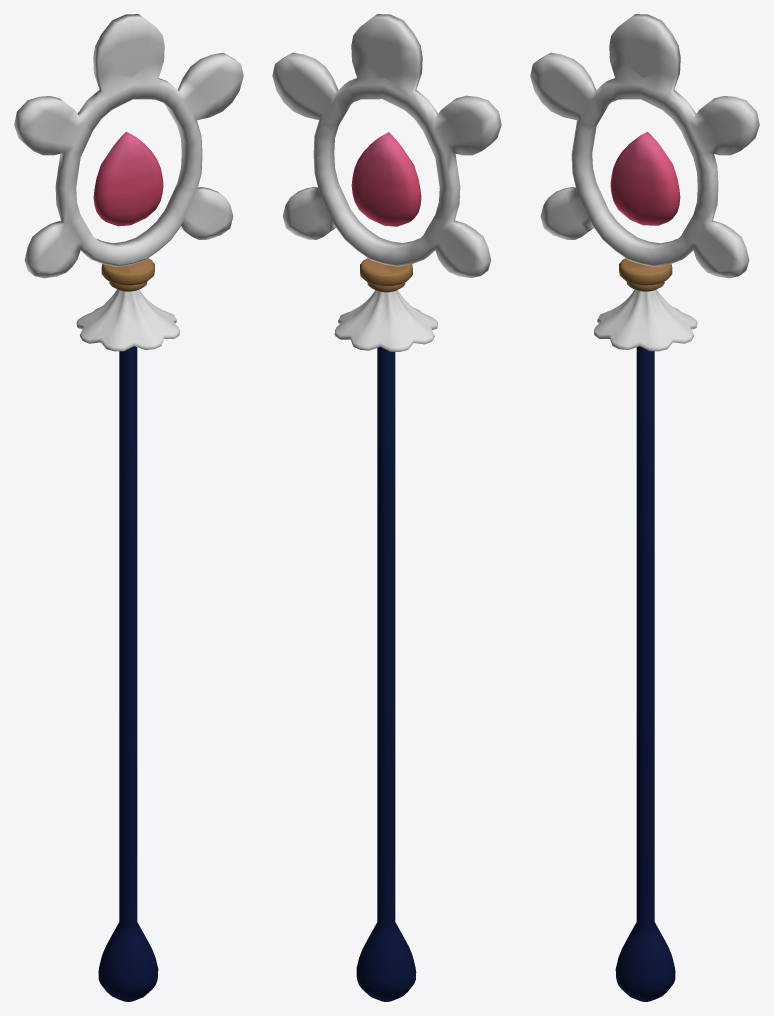
The model's file is TurtleStaff.fbx.
3 views of the same model, side by side, from view 1: azimuth 30°, elevation 25°; view 2: azimuth 150°, elevation 25°; view 3: azimuth 330°, elevation 25° (orthographic).
Parts seen in each view (by area): view 1: turtle, pole, teardropcrystal, frill; view 2: turtle, pole, teardropcrystal, frill; view 3: turtle, pole, teardropcrystal, frill.
Boxes of the visible parts, left/top/right/bottom form: turtle: left=14, top=14, right=243, bottom=278; pole: left=98, top=258, right=158, bottom=1001; teardropcrystal: left=93, top=131, right=163, bottom=226; frill: left=76, top=289, right=179, bottom=351; turtle: left=272, top=14, right=501, bottom=277; pole: left=356, top=258, right=416, bottom=1001; teardropcrystal: left=351, top=132, right=421, bottom=226; frill: left=334, top=290, right=437, bottom=351; turtle: left=530, top=14, right=759, bottom=278; pole: left=615, top=258, right=675, bottom=1001; teardropcrystal: left=610, top=131, right=680, bottom=225; frill: left=594, top=289, right=697, bottom=351.
Size of the model in its own units: 57.98 by 245 by 24.13.
